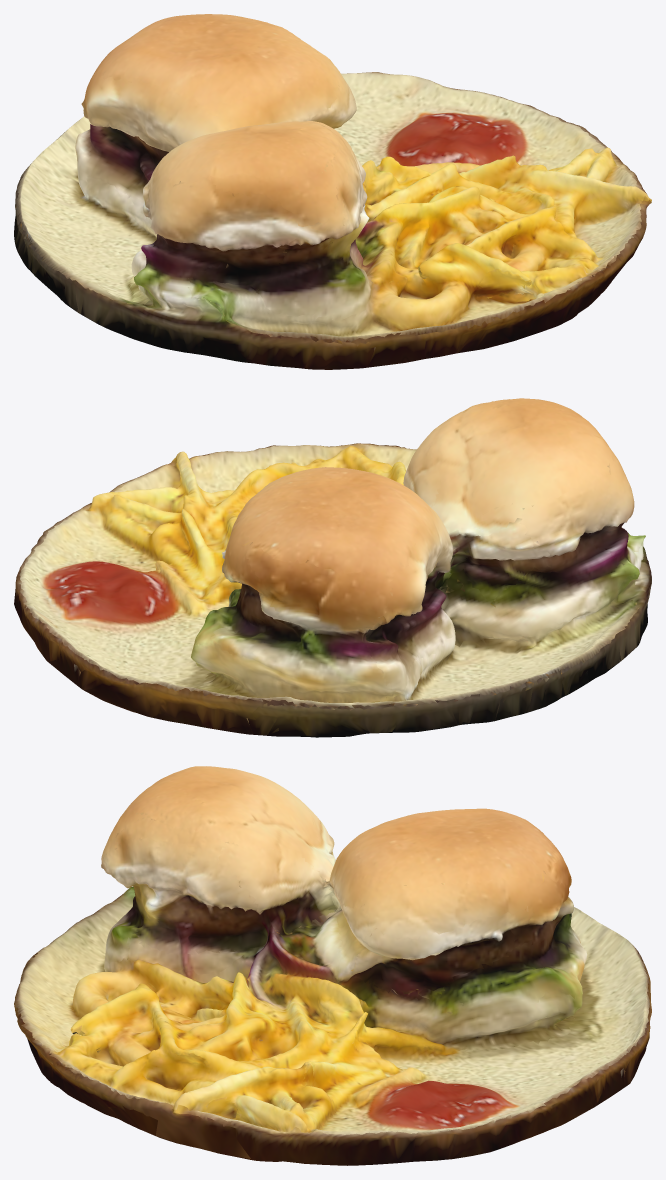
The model's file is burger-classic.glb.
The picture shows the model from 3 angles, top to bottom: view 1: azimuth 30°, elevation 25°; view 2: azimuth 150°, elevation 25°; view 3: azimuth 270°, elevation 25°; orthographic projection.
Visible parts, largest first — view 1: burgerobjcleanermaterialmergergles; view 2: burgerobjcleanermaterialmergergles; view 3: burgerobjcleanermaterialmergergles.
Part boxes in pixels (<box>): burgerobjcleanermaterialmergergles: <box>14,14,651,369</box>; burgerobjcleanermaterialmergergles: <box>14,398,651,737</box>; burgerobjcleanermaterialmergergles: <box>14,766,651,1165</box>.
Bounding box in the file's own units: 0.1396 × 0.0458 × 0.14.
1 material, 1 textured.
